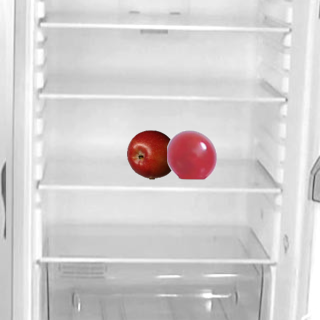Apple Braeburn: (126, 129, 176, 179)
Redcurrant: (166, 129, 216, 179)
